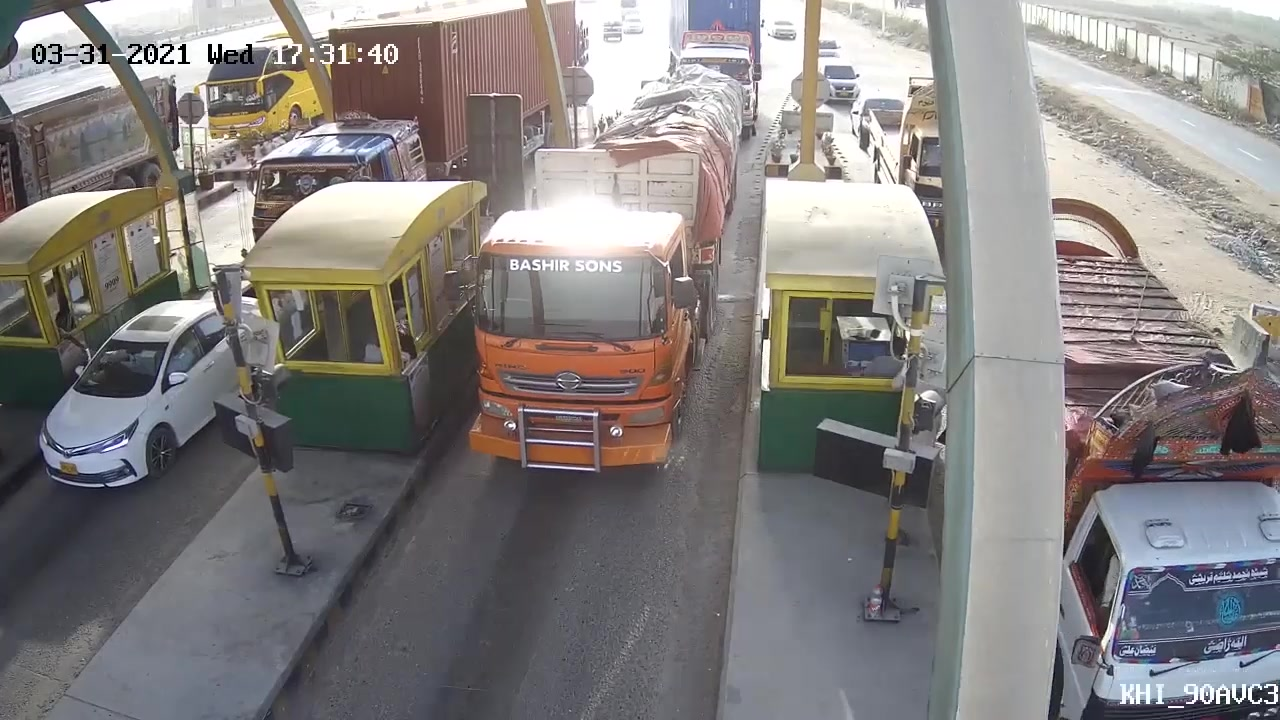F6: (464, 56, 747, 487)
